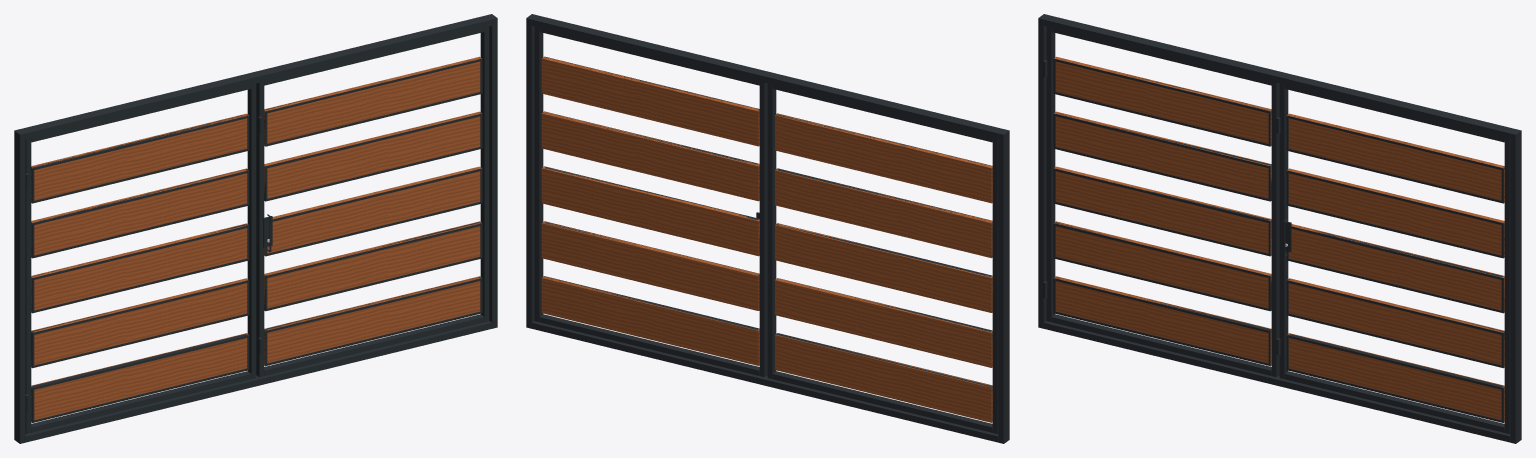
The model's file is wood-grain-horizontal-panel-gate-02.glb.
3 renders of one model, left to right at view 1: azimuth 30°, elevation 25°; view 2: azimuth 150°, elevation 25°; view 3: azimuth 330°, elevation 25°, orthographic.
Visible parts, largest first — view 1: Gate leaf 1 / Accent panel, Gate leaf 0 / Accent panel, Outer gate posts, Gate leaf 0 / Panel perimeter, Gate leaf 1 / Leaf frame, Gate leaf 1 / Panel perimeter, Gate leaf 0 / Leaf frame; view 2: Gate leaf 1 / Accent panel, Gate leaf 0 / Accent panel, Outer gate posts, Gate leaf 1 / Leaf frame, Gate leaf 0 / Leaf frame, Gate leaf 0 / Panel perimeter, Gate leaf 1 / Panel perimeter; view 3: Gate leaf 0 / Accent panel, Gate leaf 1 / Accent panel, Outer gate posts, Gate leaf 1 / Panel perimeter, Gate leaf 0 / Panel perimeter, Gate leaf 0 / Leaf frame, Gate leaf 1 / Leaf frame.
Part boxes in pixels (x1=…): Gate leaf 1 / Accent panel: x1=264, y1=56, x2=481, y2=365; Gate leaf 0 / Accent panel: x1=31, y1=113, x2=248, y2=422; Outer gate posts: x1=14, y1=14, x2=497, y2=443; Gate leaf 0 / Panel perimeter: x1=31, y1=114, x2=249, y2=422; Gate leaf 1 / Leaf frame: x1=256, y1=26, x2=489, y2=377; Gate leaf 1 / Panel perimeter: x1=264, y1=58, x2=482, y2=366; Gate leaf 0 / Leaf frame: x1=25, y1=83, x2=256, y2=433; Gate leaf 1 / Accent panel: x1=541, y1=56, x2=759, y2=365; Gate leaf 0 / Accent panel: x1=775, y1=114, x2=992, y2=422; Outer gate posts: x1=526, y1=14, x2=1009, y2=443; Gate leaf 1 / Leaf frame: x1=534, y1=26, x2=767, y2=377; Gate leaf 0 / Leaf frame: x1=767, y1=83, x2=998, y2=433; Gate leaf 0 / Panel perimeter: x1=775, y1=113, x2=992, y2=418; Gate leaf 1 / Panel perimeter: x1=543, y1=56, x2=759, y2=329; Gate leaf 0 / Accent panel: x1=1054, y1=56, x2=1271, y2=365; Gate leaf 1 / Accent panel: x1=1287, y1=113, x2=1504, y2=422; Outer gate posts: x1=1038, y1=14, x2=1521, y2=443; Gate leaf 1 / Panel perimeter: x1=1286, y1=115, x2=1504, y2=422; Gate leaf 0 / Panel perimeter: x1=1053, y1=58, x2=1271, y2=366; Gate leaf 0 / Leaf frame: x1=1046, y1=26, x2=1279, y2=377; Gate leaf 1 / Leaf frame: x1=1279, y1=83, x2=1510, y2=433.
Bounding box in the file's own units: 3.28 × 2.03 × 0.098.
Materials: 3 (1 with a texture image).
